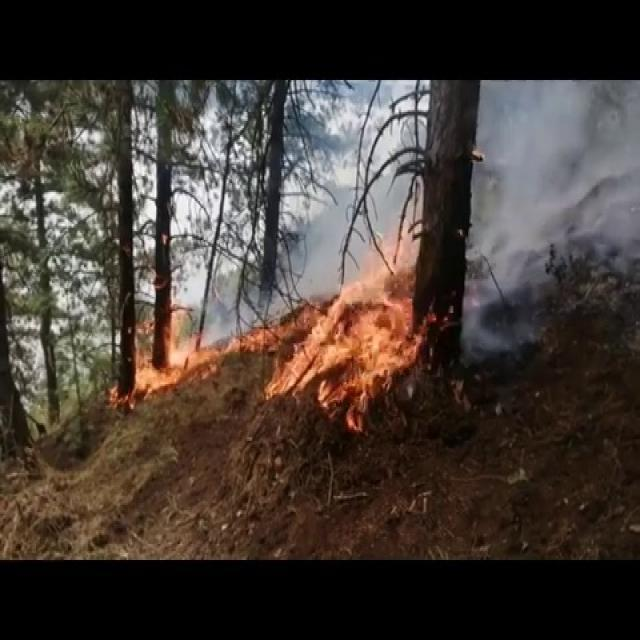Fire: (266, 255, 424, 428), (124, 280, 220, 406)
Smoke: (466, 80, 640, 313)
